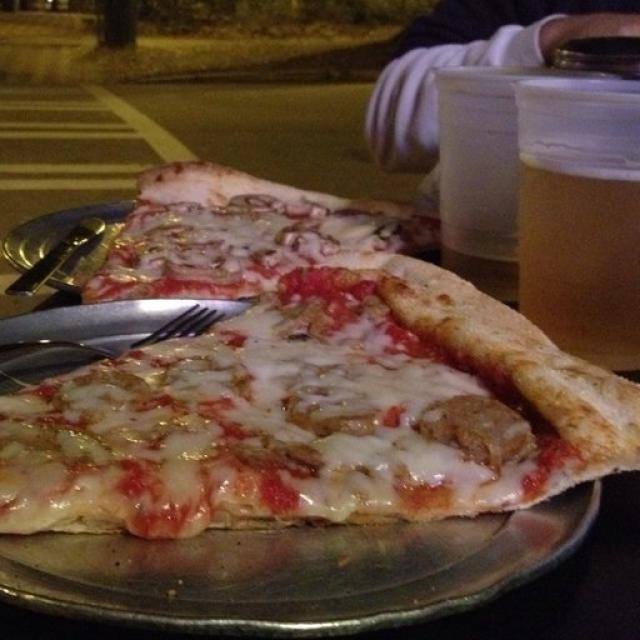Beef: (413, 392, 536, 470), (282, 399, 375, 436), (238, 438, 319, 473), (277, 294, 331, 336), (358, 289, 392, 321), (228, 192, 274, 212)
Pizza: (0, 162, 638, 538)
